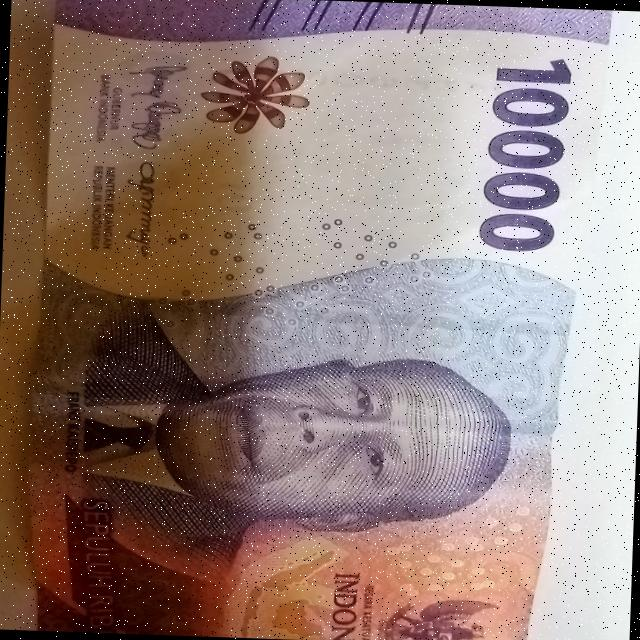10K: (23, 0, 621, 640)
